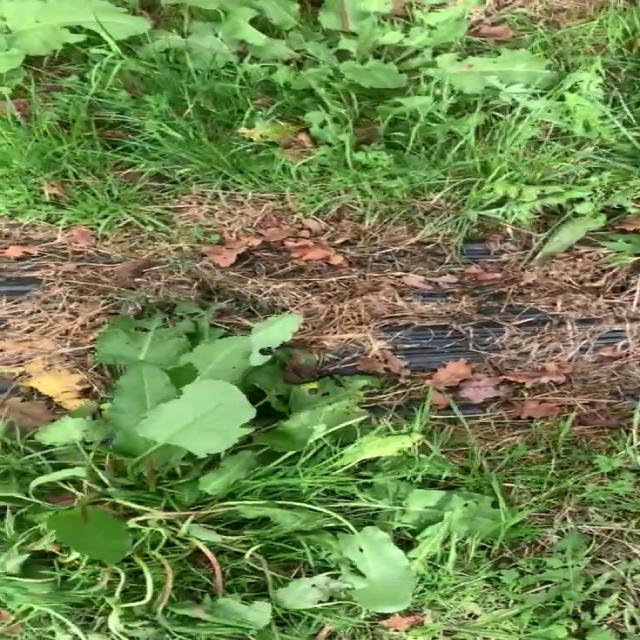organic waste: (0, 307, 523, 640), (154, 0, 562, 140), (0, 0, 171, 84)
